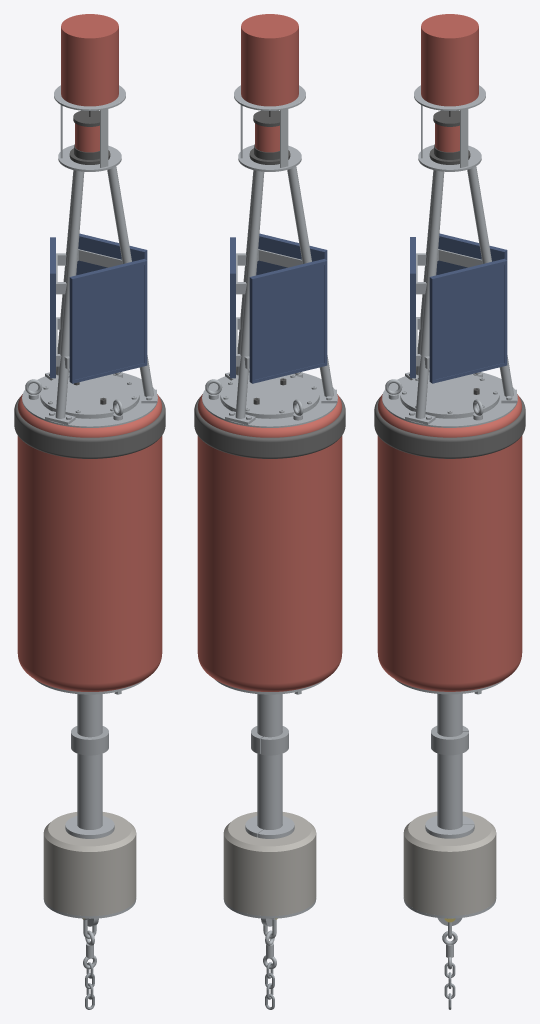
Rendered from esp2024_buoy.glb.
The picture shows the model from 3 angles, left to right: view 1: azimuth 30°, elevation 25°; view 2: azimuth 150°, elevation 25°; view 3: azimuth 270°, elevation 25°; orthographic projection.
Parts seen in each view (by area): view 1: float hull, solar panel 1, ballast ring, topmark, fender ring, tail tube, hatch lid, tripod leg 2, deck plate, tripod leg 3, solar panel 2, solar panel 3 (+10 smaller); view 2: float hull, solar panel 3, ballast ring, topmark, fender ring, tail tube, hatch lid, tripod leg 1, deck plate, tripod leg 2, solar panel 1, solar panel 2 (+10 smaller); view 3: float hull, solar panel 2, ballast ring, topmark, fender ring, tail tube, hatch lid, tripod leg 3, deck plate, tripod leg 1, solar panel 3, solar panel 1 (+10 smaller).
Part boxes in pixels (x1,y1,x2,y2): float hull: [17, 394, 162, 691]; solar panel 1: [69, 259, 147, 383]; ballast ring: [43, 812, 136, 916]; topmark: [61, 14, 118, 106]; fender ring: [14, 396, 165, 458]; tail tube: [43, 694, 136, 918]; hatch lid: [40, 374, 139, 416]; tripod leg 2: [45, 170, 84, 424]; deck plate: [22, 373, 157, 427]; tripod leg 3: [107, 166, 156, 403]; solar panel 2: [76, 233, 147, 275]; solar panel 3: [50, 237, 55, 378]; float hull: [197, 394, 342, 691]; solar panel 3: [249, 259, 327, 383]; ballast ring: [223, 812, 316, 916]; topmark: [241, 14, 298, 106]; fender ring: [194, 396, 345, 458]; tail tube: [223, 694, 316, 918]; hatch lid: [220, 374, 319, 416]; tripod leg 1: [225, 170, 264, 424]; deck plate: [202, 373, 337, 427]; tripod leg 2: [287, 166, 336, 403]; solar panel 1: [256, 233, 327, 275]; solar panel 2: [230, 237, 235, 378]; float hull: [377, 394, 522, 691]; solar panel 2: [429, 258, 507, 383]; ballast ring: [403, 811, 496, 915]; topmark: [421, 14, 478, 106]; fender ring: [374, 397, 525, 458]; tail tube: [403, 694, 496, 918]; hatch lid: [400, 374, 499, 416]; tripod leg 3: [405, 170, 444, 424]; deck plate: [382, 372, 517, 427]; tripod leg 1: [467, 166, 516, 403]; solar panel 3: [436, 233, 507, 275]; solar panel 1: [410, 237, 415, 378].
Size of the model in its own units: 524 by 3758 by 524.
